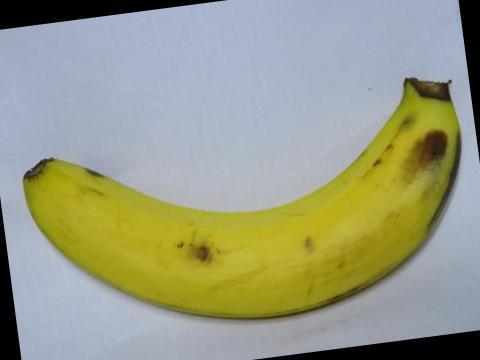freshripe: (13, 67, 470, 331)
